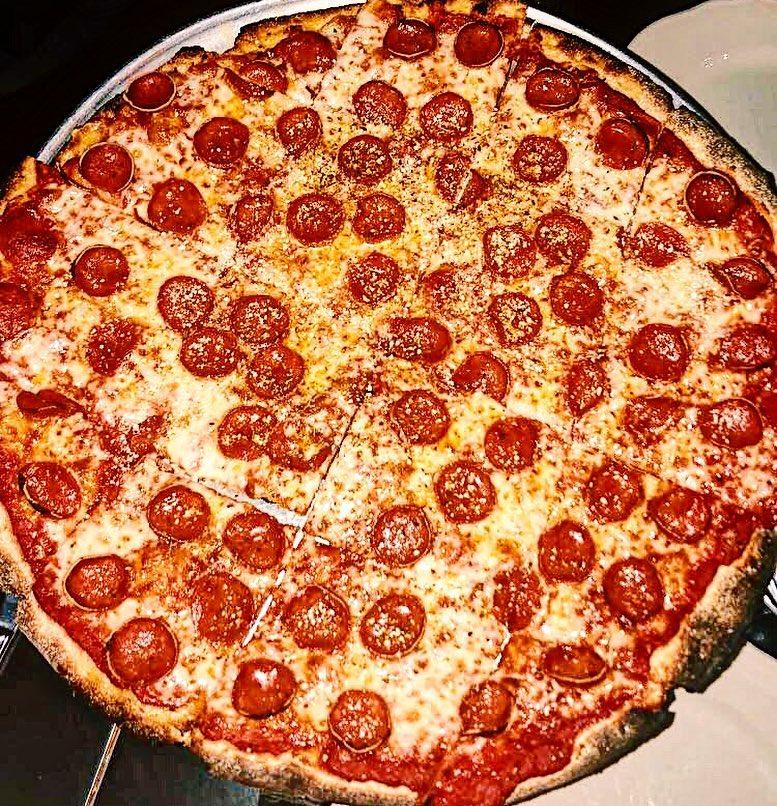Pepperoni: (105, 618, 180, 688), (193, 571, 254, 643), (358, 595, 426, 657), (431, 461, 497, 523), (281, 585, 347, 647), (329, 691, 392, 754), (608, 554, 665, 621), (648, 484, 709, 546), (484, 416, 552, 470), (149, 485, 212, 543), (225, 512, 289, 569), (232, 659, 298, 714), (65, 554, 132, 608), (89, 324, 151, 382), (0, 205, 58, 266), (373, 506, 433, 564), (19, 462, 81, 517), (630, 326, 688, 384), (585, 465, 644, 522), (383, 315, 454, 361), (539, 524, 597, 580), (684, 170, 739, 228), (481, 225, 541, 278), (336, 133, 398, 184), (220, 403, 276, 459), (701, 396, 765, 445), (194, 113, 248, 168), (488, 290, 543, 344), (268, 422, 334, 467), (244, 344, 303, 393), (544, 637, 612, 679), (181, 329, 238, 379), (159, 276, 212, 329), (78, 142, 133, 193), (149, 177, 199, 233), (390, 391, 446, 441), (492, 570, 537, 632), (453, 351, 511, 399), (16, 386, 87, 425), (596, 117, 649, 169), (459, 680, 511, 733), (631, 395, 685, 446), (551, 273, 603, 325), (354, 78, 404, 132), (345, 254, 399, 304), (628, 222, 685, 268), (538, 212, 590, 262), (289, 193, 343, 241), (231, 297, 291, 340), (74, 245, 130, 291), (277, 30, 337, 72), (522, 63, 579, 107), (354, 193, 408, 239), (706, 257, 768, 297), (450, 21, 503, 66), (419, 91, 472, 136), (228, 59, 284, 101), (123, 71, 177, 114), (441, 148, 481, 206), (562, 364, 607, 413), (513, 136, 566, 177), (723, 325, 777, 364), (388, 15, 435, 58), (273, 110, 318, 152), (232, 195, 273, 237), (0, 289, 34, 339), (420, 271, 454, 308), (348, 371, 386, 403)
Pizza: (0, 2, 777, 806)
